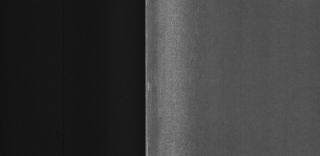silk spot: (173, 12, 225, 144)
